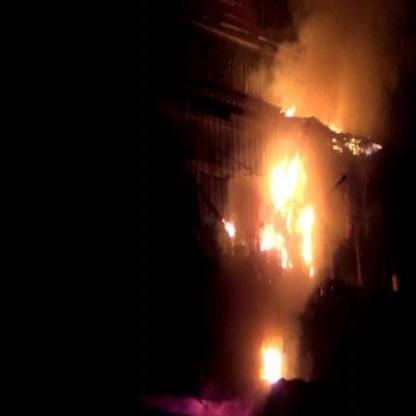fire: (267, 148, 303, 210), (292, 206, 317, 268), (257, 340, 286, 388), (260, 219, 284, 255), (222, 218, 238, 238), (280, 104, 300, 118)
